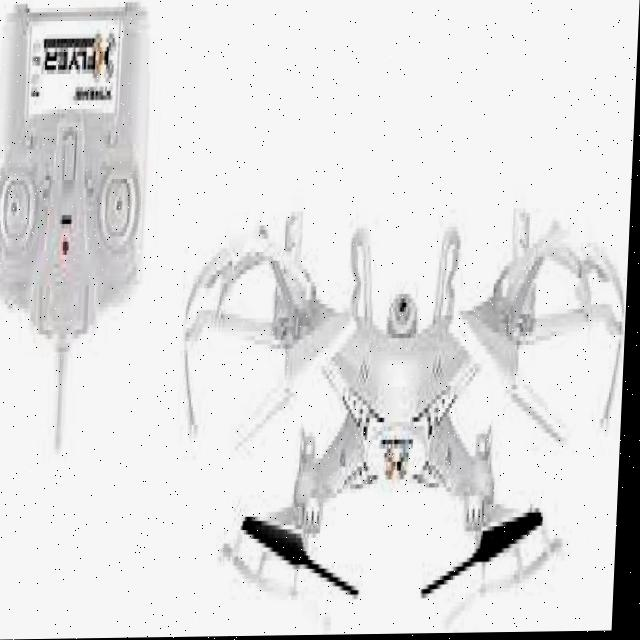drone: (170, 124, 635, 623)
